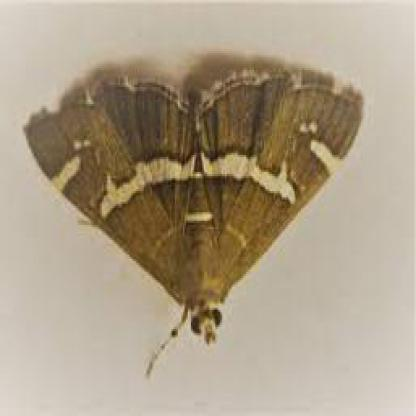Leaf Webber: (22, 69, 364, 375)
